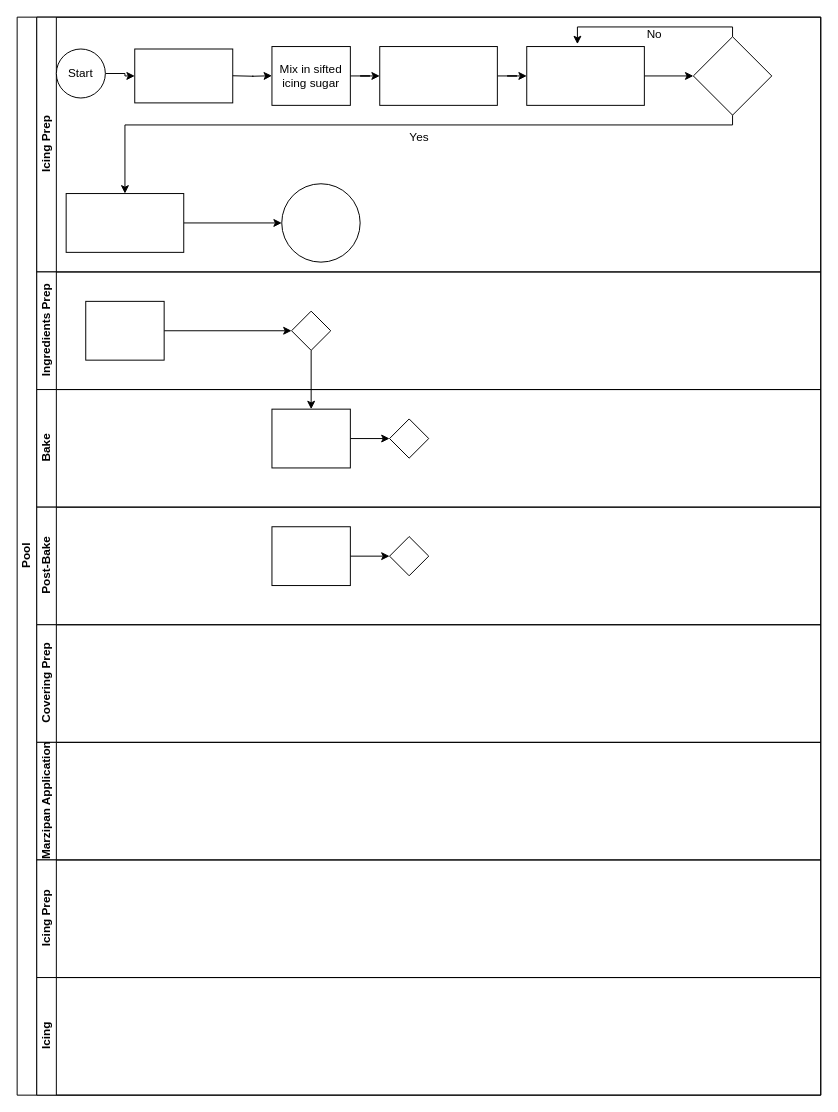
This 838x1112 diagram has some shape labels left out. Each missing label, with the box of its shape:
Add lemon juice and glycerin: (379, 46, 497, 105)
Beat until stiff: (526, 46, 644, 105)
Cover surface of icing tightly with cling film: (65, 193, 184, 252)
Is it stiff?: (692, 36, 772, 115)
Keep in cool place until needed: (281, 183, 360, 262)
Whisk egg whites: (134, 48, 233, 103)
